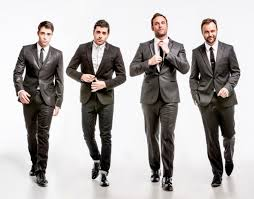person: (200, 17, 219, 44), (92, 19, 111, 45), (150, 12, 169, 37), (37, 20, 54, 47)
